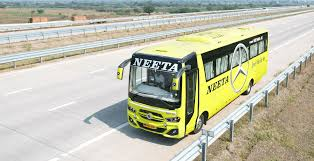bus: (117, 25, 270, 141)
